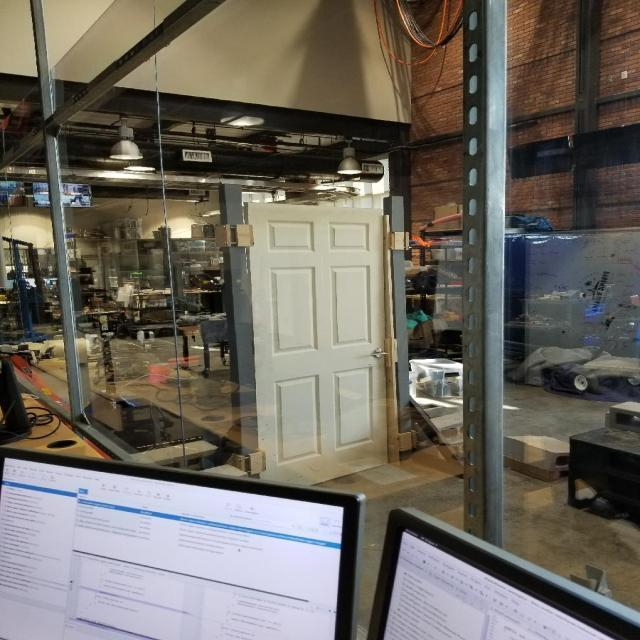door: (241, 199, 389, 502), (368, 348, 388, 361)
